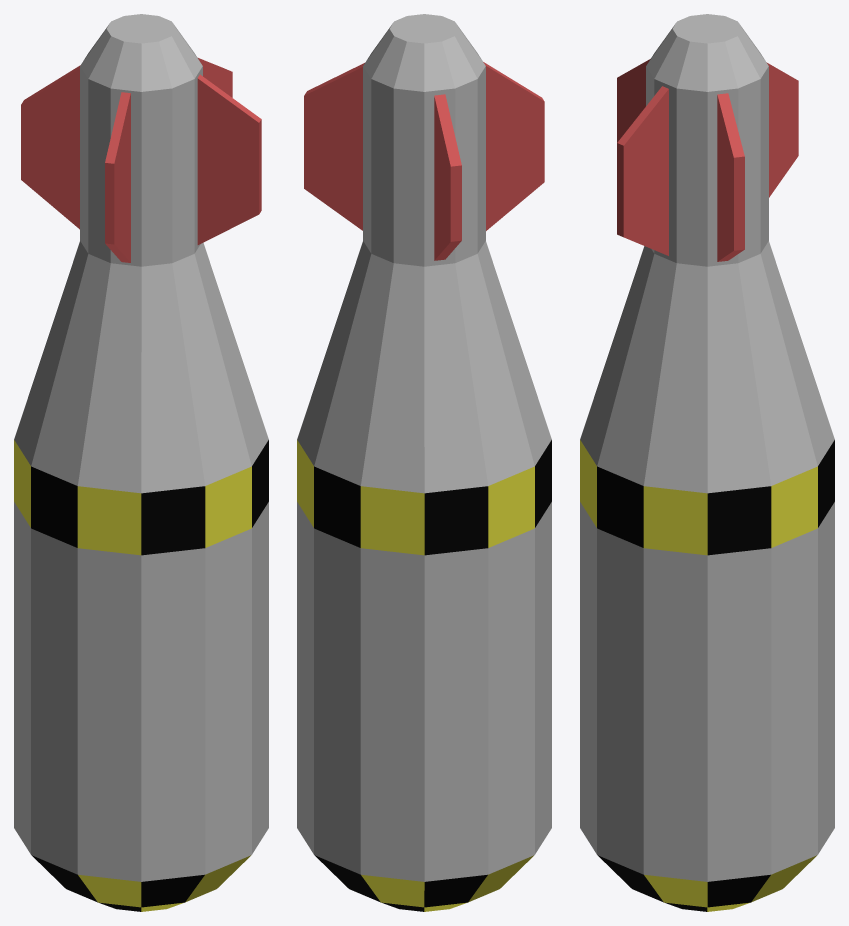
Rendered from bomb01.fbx.
3 views of the same model, side by side, from view 1: azimuth 30°, elevation 25°; view 2: azimuth 150°, elevation 25°; view 3: azimuth 270°, elevation 25° (orthographic).
Visible parts, largest first — view 1: pCylinder1; view 2: pCylinder1; view 3: pCylinder1.
Boxes of the visible parts, <box> form: pCylinder1: <box>14,14,268,911</box>; pCylinder1: <box>297,14,551,911</box>; pCylinder1: <box>580,14,834,911</box>.
Size of the model in its own units: 1.83 by 6.84 by 1.83.
